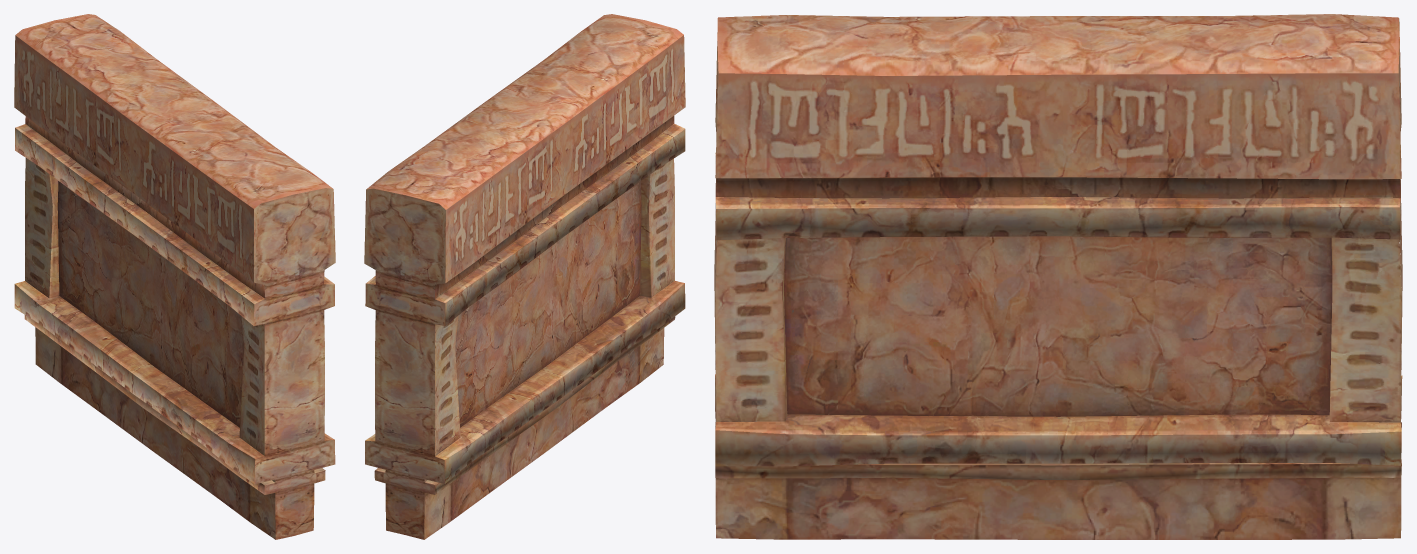
Rendered from kor_vod_ruins_wall.glb.
3 renders of one model, left to right at view 1: azimuth 30°, elevation 25°; view 2: azimuth 150°, elevation 25°; view 3: azimuth 270°, elevation 25°, orthographic. The views are drawn at different scales.
Visible parts, largest first — view 1: kor_vod_ruins_wall; view 2: kor_vod_ruins_wall; view 3: kor_vod_ruins_wall.
Boxes of the visible parts, <box> form: kor_vod_ruins_wall: <box>14,14,335,539</box>; kor_vod_ruins_wall: <box>364,14,685,539</box>; kor_vod_ruins_wall: <box>714,14,1402,539</box>.
Bounding box in the file's own units: 0.4034 × 1.61 × 2.04.
1 material, 1 textured.
